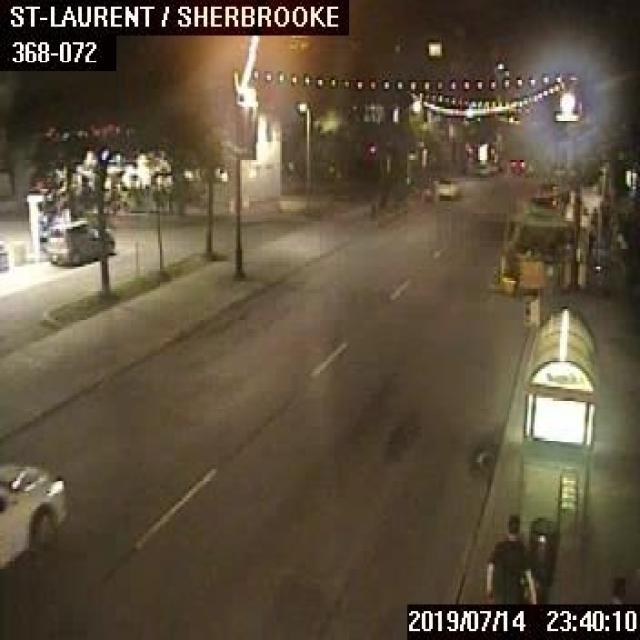pedestrian: (482, 513, 536, 598)
vehicle: (0, 460, 64, 569), (46, 217, 113, 263), (435, 178, 460, 195), (508, 158, 526, 175)
